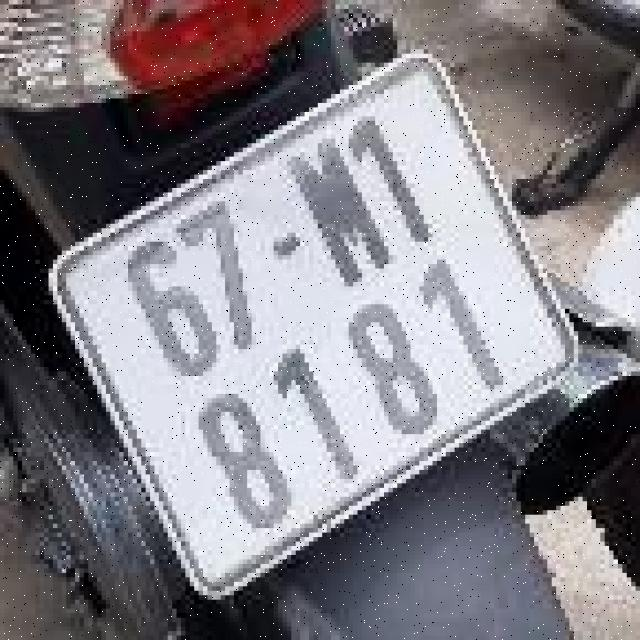1: (253, 331, 385, 501), (407, 245, 530, 408), (336, 98, 454, 265)
6: (107, 220, 230, 390)
7: (163, 184, 283, 363)
8: (175, 372, 315, 551), (325, 285, 463, 458)
M: (276, 125, 399, 299)
